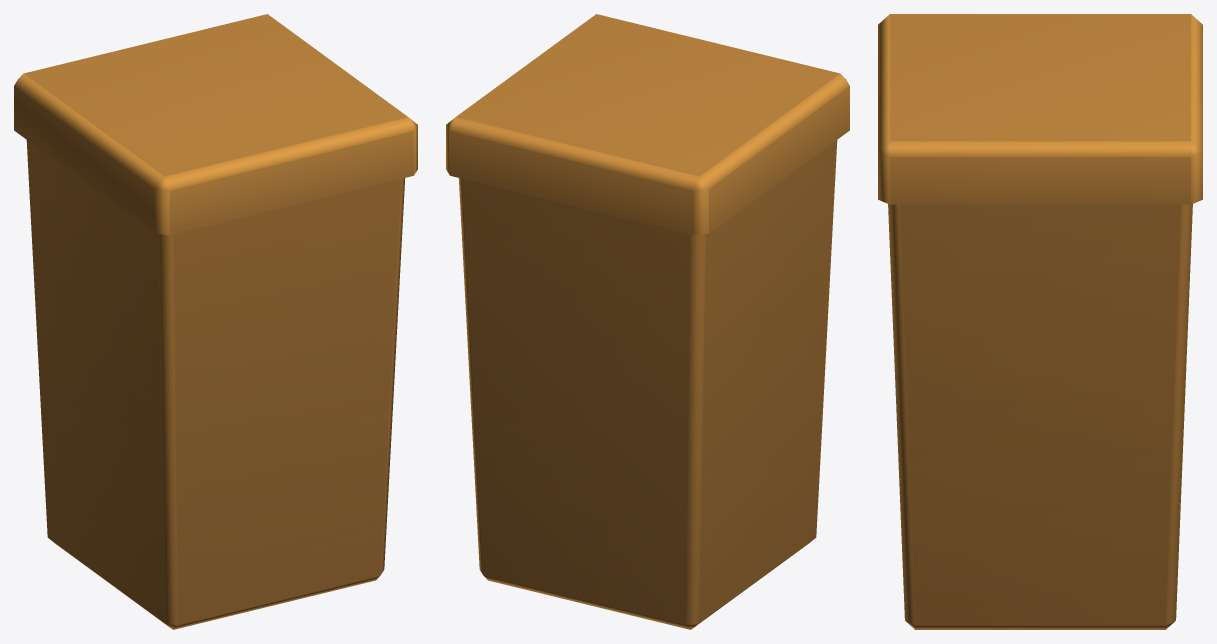
The model's file is giftbox_013.fbx.
3 views of the same model, side by side, from view 1: azimuth 30°, elevation 25°; view 2: azimuth 150°, elevation 25°; view 3: azimuth 270°, elevation 25° (orthographic). The views are drawn at different scales.
Visible parts, largest first — view 1: giftbox_013; view 2: giftbox_013; view 3: giftbox_013.
Part boxes in pixels (x1,y1,x2,y2): giftbox_013: [14, 14, 417, 629]; giftbox_013: [446, 14, 849, 629]; giftbox_013: [878, 14, 1202, 629].
Bounding box in the file's own units: 234 × 234 × 397.
